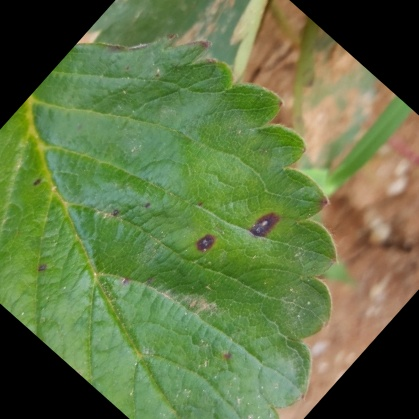Leaf_Spot: (0, 41, 418, 418)
